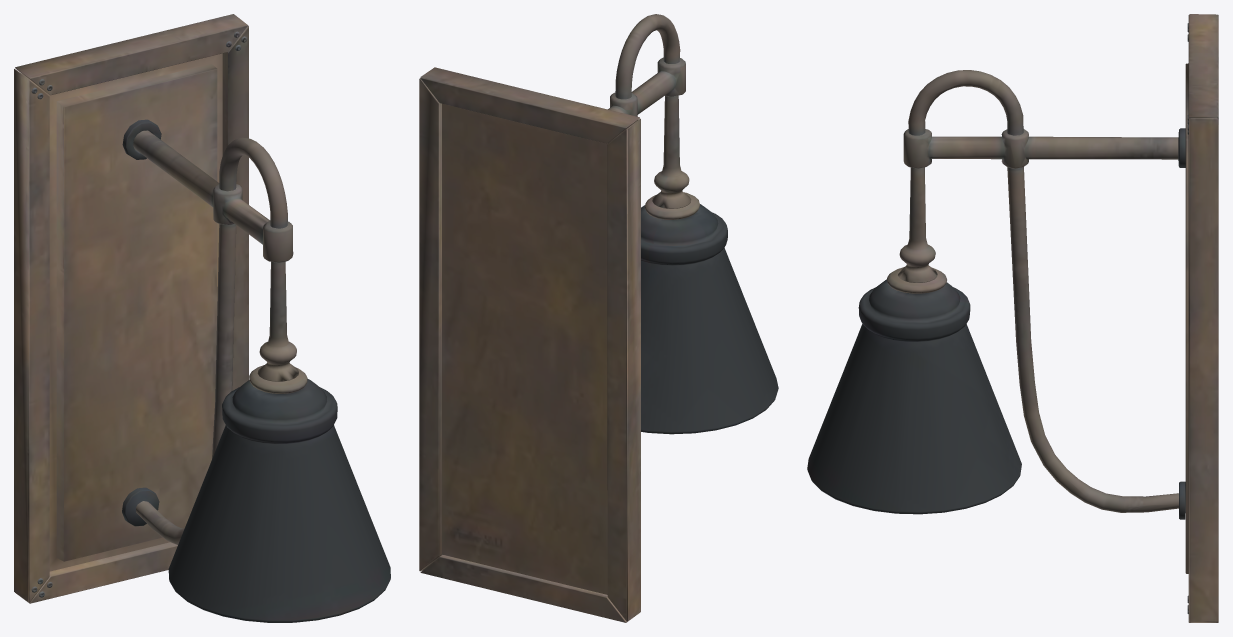
The model's file is wall-sconce.glb.
3 views of the same model, side by side, from view 1: azimuth 30°, elevation 25°; view 2: azimuth 150°, elevation 25°; view 3: azimuth 270°, elevation 25° (orthographic). The views are drawn at different scales.
Visible parts, largest first — view 1: industrial_wall_sconce; view 2: industrial_wall_sconce; view 3: industrial_wall_sconce.
Part boxes in pixels (<box>): industrial_wall_sconce: <box>14,14,390,622</box>; industrial_wall_sconce: <box>419,14,778,622</box>; industrial_wall_sconce: <box>807,14,1218,622</box>.
Size of the model in its own units: 0.1503 by 0.3416 by 0.2516.
Materials: 2 (2 with a texture image).
